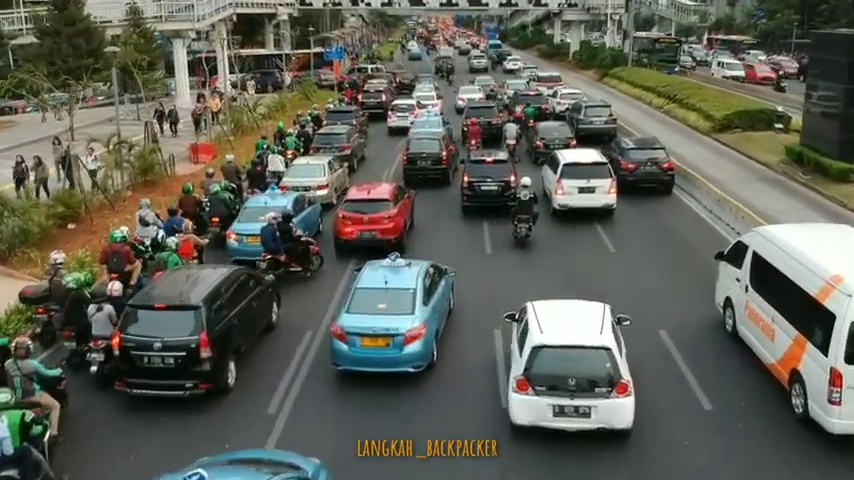bus: (210, 50, 341, 96), (630, 31, 682, 79)
car: (711, 209, 854, 442), (112, 263, 281, 403), (505, 301, 638, 437), (331, 254, 451, 377), (227, 188, 322, 260), (333, 180, 415, 255), (539, 146, 618, 221), (604, 134, 674, 197), (461, 148, 519, 213), (280, 153, 351, 206), (404, 132, 458, 188), (309, 124, 367, 174), (568, 99, 619, 146), (528, 119, 575, 165), (462, 103, 503, 150), (508, 89, 552, 128), (326, 105, 368, 145), (549, 86, 590, 121), (389, 98, 423, 134), (711, 56, 744, 86), (358, 87, 390, 117), (454, 85, 486, 114), (744, 58, 774, 85), (468, 54, 489, 74), (502, 56, 523, 72)
motorbike: (5, 338, 66, 441), (1, 385, 53, 479), (23, 251, 72, 345), (86, 283, 134, 378), (258, 211, 324, 278), (63, 272, 101, 363), (102, 226, 143, 299), (130, 199, 167, 268), (514, 176, 538, 244), (208, 185, 236, 241), (222, 153, 242, 198), (244, 159, 265, 199), (465, 118, 484, 158), (505, 118, 520, 165), (523, 101, 535, 131)
